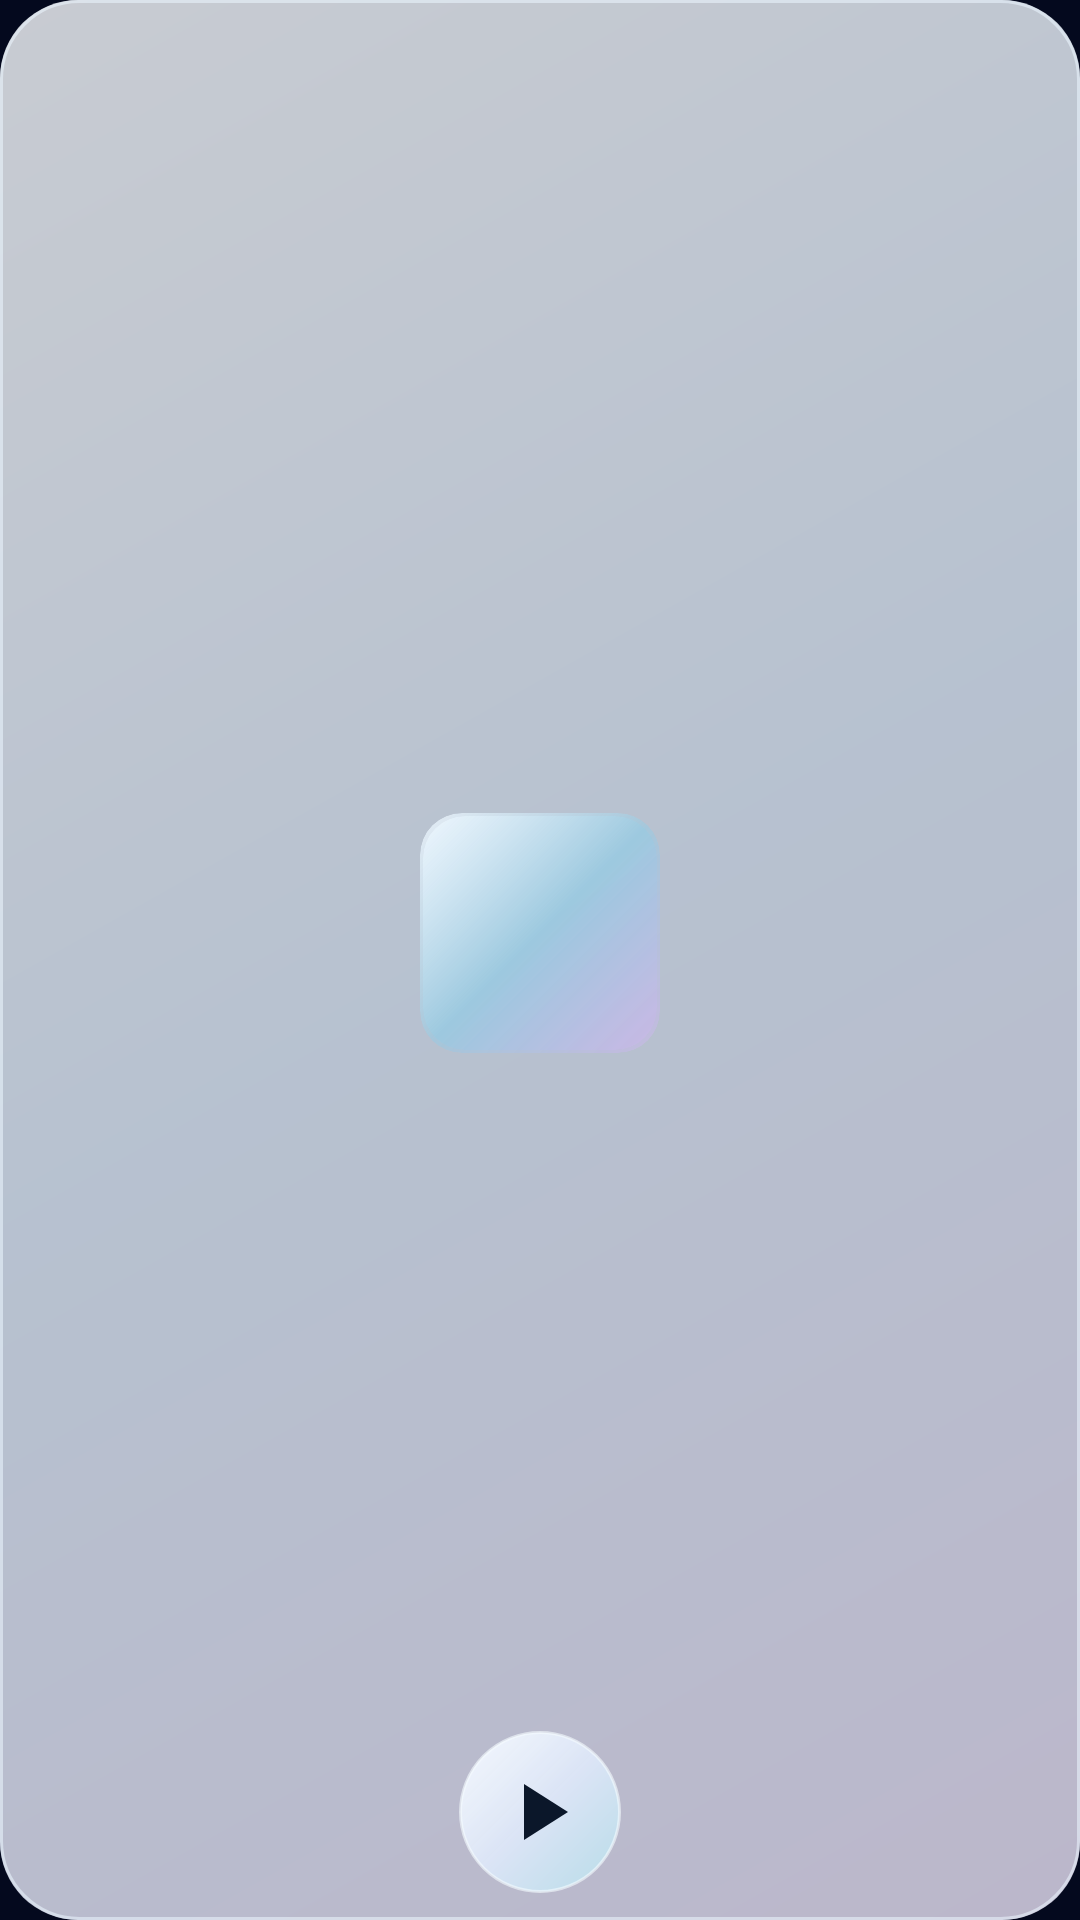

Icon bounding boxes for this 1080 × 1920 phone screenshot, format (x1, y1, x2, y2):
Phát: (459, 1731, 621, 1893)
